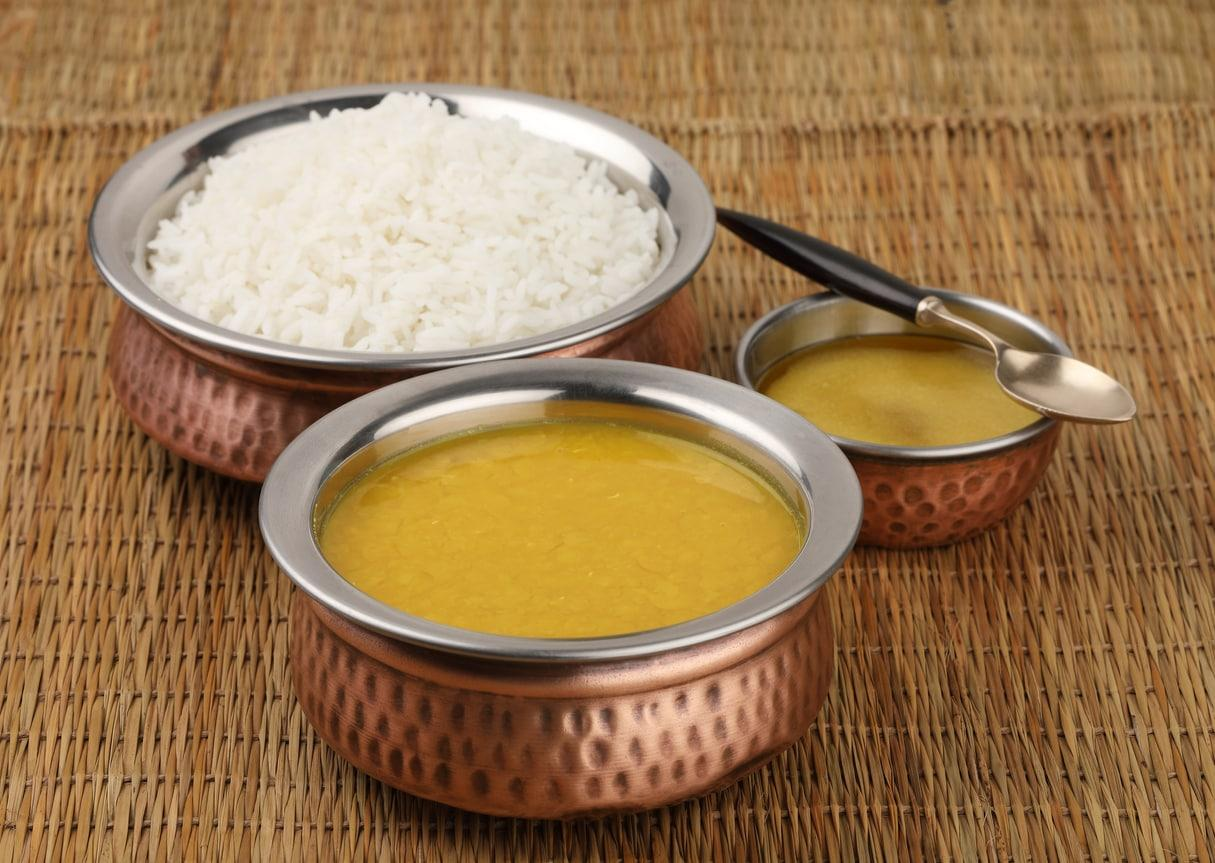rice: (148, 143, 675, 346)
varan: (368, 396, 833, 636), (803, 311, 1044, 451)
